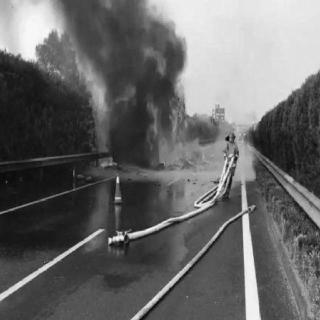Fire: (107, 60, 207, 173)
Smoke: (61, 2, 181, 96)
